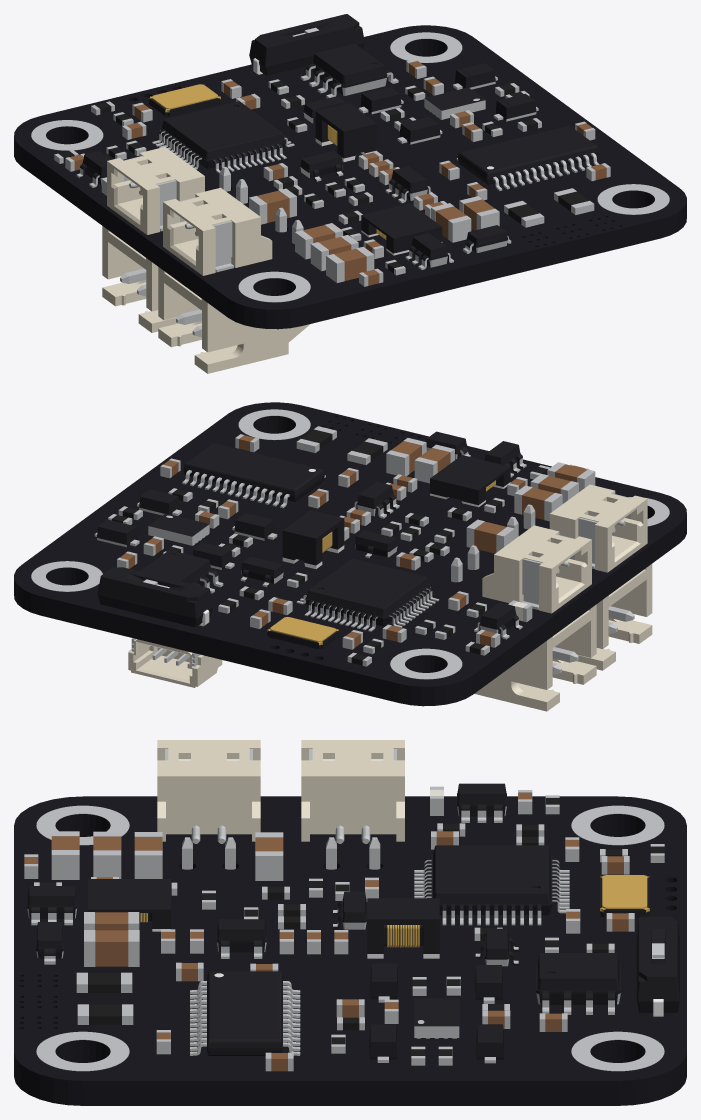
Rendered from body.glb.
3 renders of one model, top to bottom at view 1: azimuth 30°, elevation 25°; view 2: azimuth 150°, elevation 25°; view 3: azimuth 270°, elevation 25°, orthographic. The views are drawn at different scales.
Visible parts, largest first — view 1: mask, plastic, cream, tin, ceramic, ring, resistor, gold; view 2: mask, plastic, cream, tin, ceramic, ring, resistor, gold, white; view 3: mask, plastic, tin, cream, ring, ceramic, resistor, gold.
Part boxes in pixels (box(x1,y1,x2,y2)): mask: box(14, 25, 686, 329); plastic: box(80, 14, 598, 266); cream: box(102, 147, 310, 373); tin: box(54, 59, 610, 337); ceramic: box(69, 61, 606, 285); ring: box(31, 32, 669, 302); resistor: box(59, 81, 589, 273); gold: box(149, 84, 386, 239); mask: box(14, 402, 686, 706); plastic: box(97, 431, 523, 649); cream: box(128, 484, 652, 711); tin: box(94, 426, 634, 674); ceramic: box(119, 435, 587, 647); ring: box(31, 409, 669, 679); resistor: box(112, 429, 547, 665); gold: box(267, 480, 495, 645); white: box(199, 469, 510, 626); mask: box(14, 796, 686, 1105); plastic: box(27, 783, 679, 1059); tin: box(24, 749, 664, 1071); cream: box(157, 740, 404, 841); ring: box(36, 805, 664, 1071); ceramic: box(24, 792, 628, 1071); resistor: box(39, 798, 664, 1055); gold: box(140, 875, 649, 947).
Bounding box in the file's own units: 0.039 × 0.0115 × 0.039.
